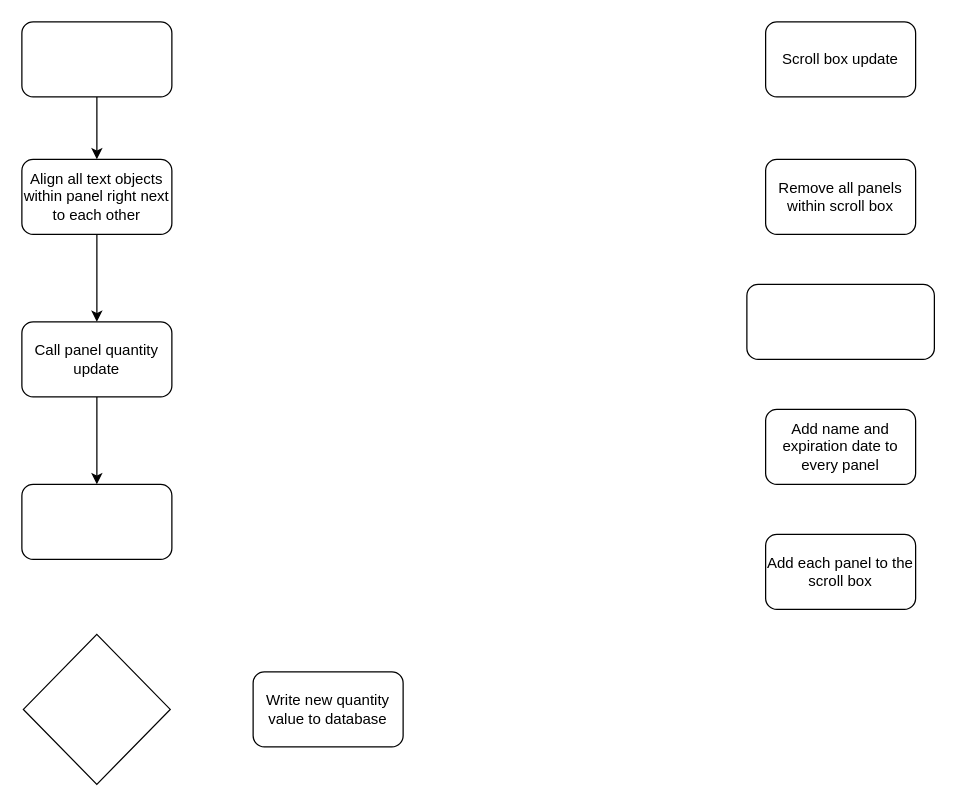
Some shapes in this 956 by 806 pixel diagram are drawn without their labels. Each missing label, with the centre of its shape:
For every food item currently in the database, make a new panel: pixel 840 321
Panel update: pixel 96 59
Quantity has changed since last update: pixel 96 708
Query database for current quantity value stored in database: pixel 96 521
